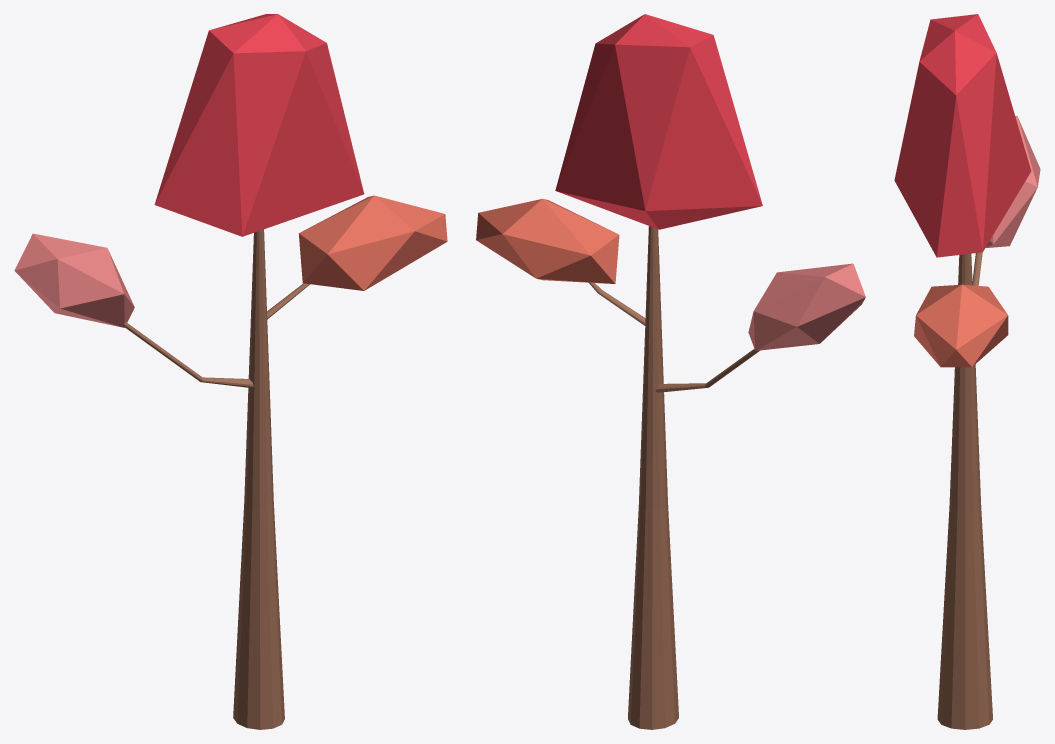
The model's file is sapling.fbx.
3 renders of one model, left to right at view 1: azimuth 30°, elevation 25°; view 2: azimuth 150°, elevation 25°; view 3: azimuth 270°, elevation 25°, orthographic.
Visible parts, largest first — view 1: Icosphere.001, Cylinder.001; view 2: Icosphere.001, Cylinder.001; view 3: Icosphere.001, Cylinder.001.
Part boxes in pixels (<box>): Icosphere.001: <box>14,14,447,327</box>; Cylinder.001: <box>123,229,309,729</box>; Icosphere.001: <box>476,14,865,350</box>; Cylinder.001: <box>588,226,760,729</box>; Icosphere.001: <box>894,14,1040,367</box>; Cylinder.001: <box>937,252,992,729</box>.
Size of the model in its own units: 396 by 648 by 124.
